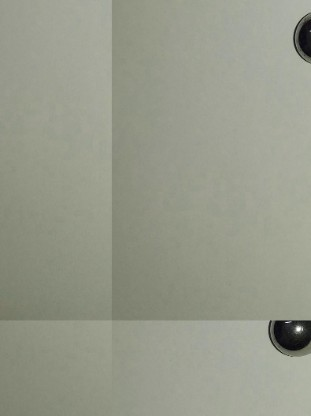ironball: (264, 315, 309, 356), (287, 8, 309, 61)
